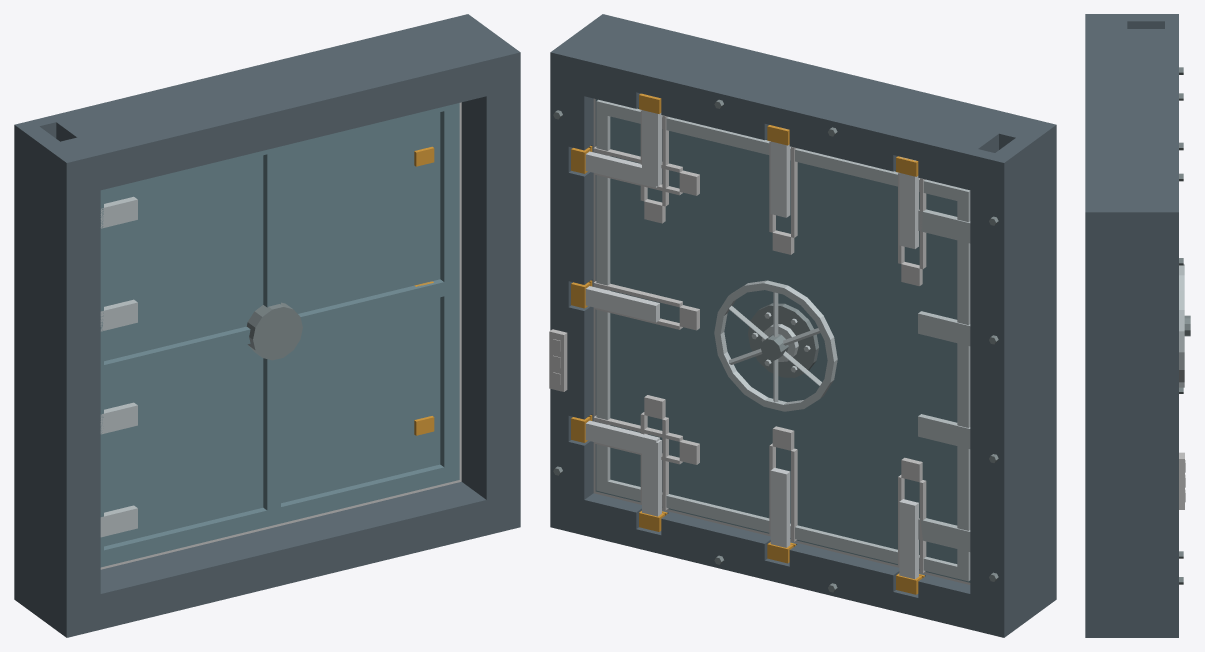
The model's file is body.obj.
3 views of the same model, side by side, from view 1: azimuth 30°, elevation 25°; view 2: azimuth 150°, elevation 25°; view 3: azimuth 270°, elevation 25° (orthographic). The views are drawn at different scales.
Bounding box in the file's own units: 4 × 4 × 0.9.
